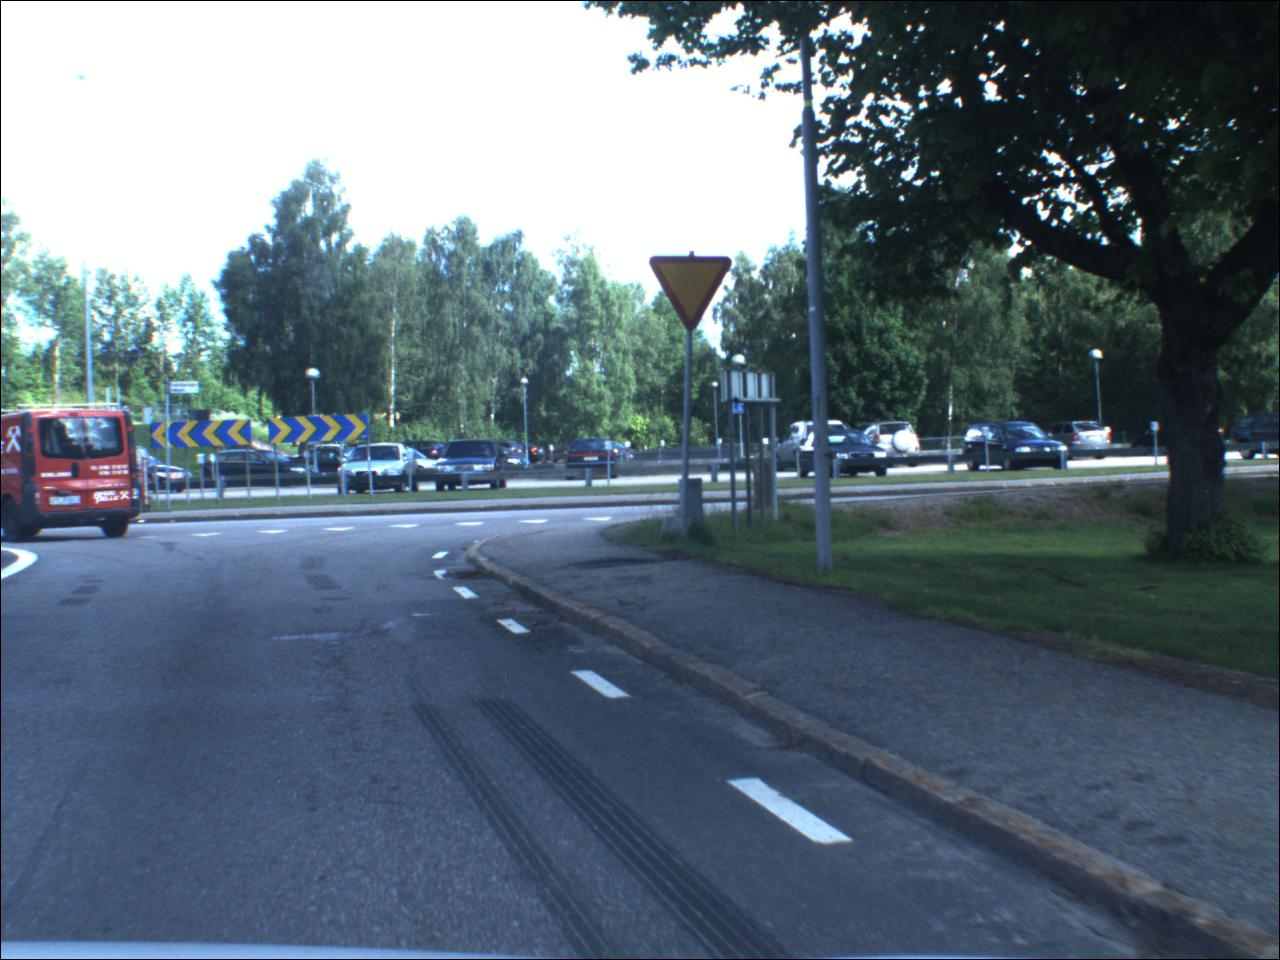GIVE_WAY: (652, 257, 734, 337)
